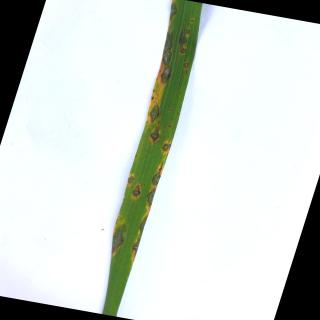Blast: (112, 222, 128, 260), (162, 31, 174, 66), (151, 160, 165, 188), (136, 210, 150, 236), (130, 234, 142, 262), (178, 30, 190, 54), (148, 124, 162, 142), (148, 104, 162, 122), (160, 66, 172, 84), (146, 188, 156, 205), (160, 140, 172, 154), (170, 2, 178, 22), (132, 186, 142, 200), (127, 174, 136, 185), (182, 60, 190, 70), (188, 18, 196, 24), (167, 124, 173, 130)
